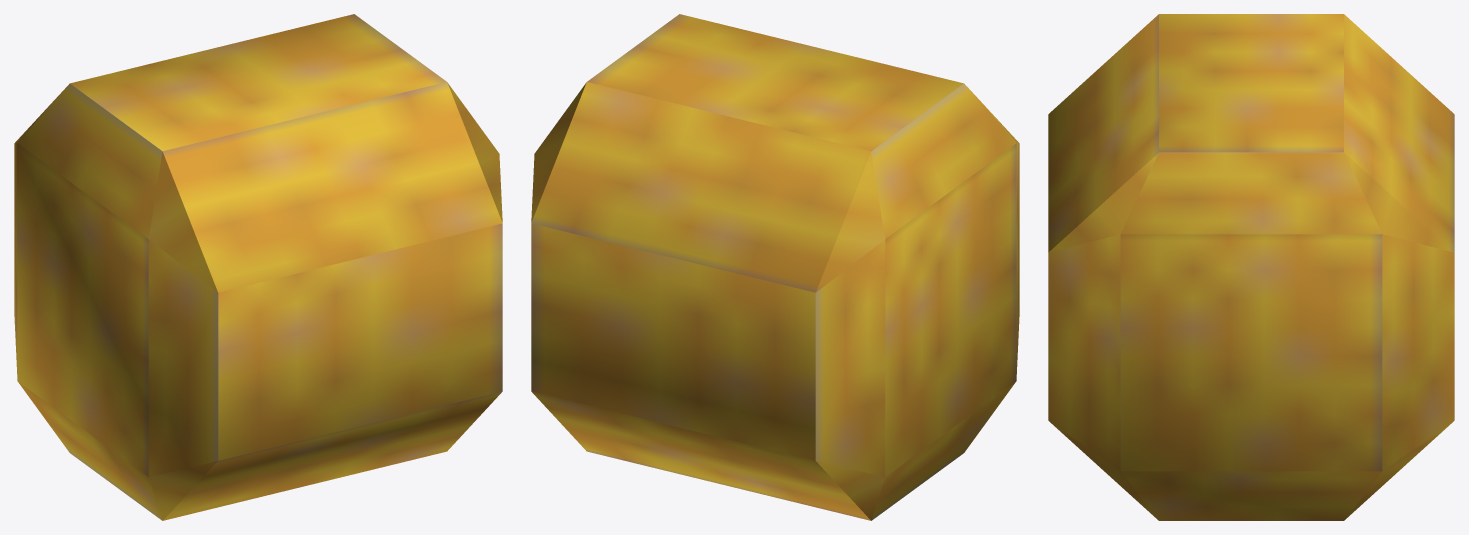
Rendered from straw_roll.fbx.
The picture shows the model from 3 angles, left to right: view 1: azimuth 30°, elevation 25°; view 2: azimuth 150°, elevation 25°; view 3: azimuth 270°, elevation 25°; orthographic projection.
Parts seen in each view (by area): view 1: straw_roll; view 2: straw_roll; view 3: straw_roll.
Part boxes in pixels (x1,y1,x2,y2): straw_roll: (14, 14, 502, 520); straw_roll: (531, 14, 1019, 520); straw_roll: (1048, 14, 1454, 520).
Bounding box in the file's own units: 198 × 199 × 199.
